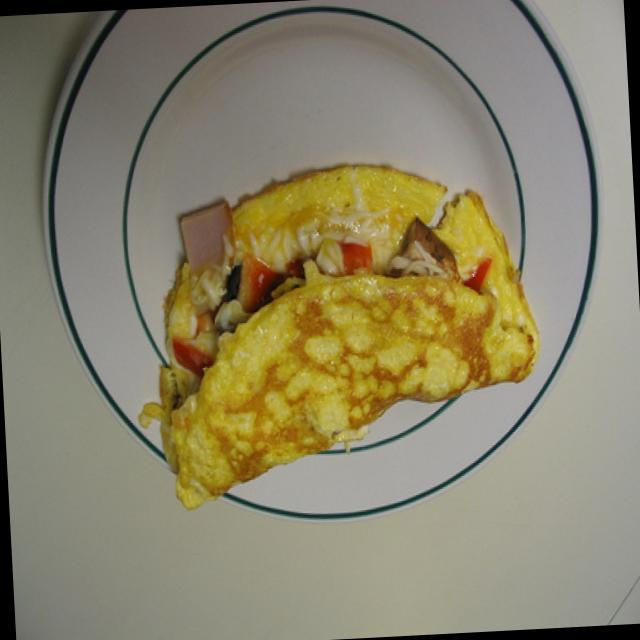Omelet: (122, 156, 545, 522)
